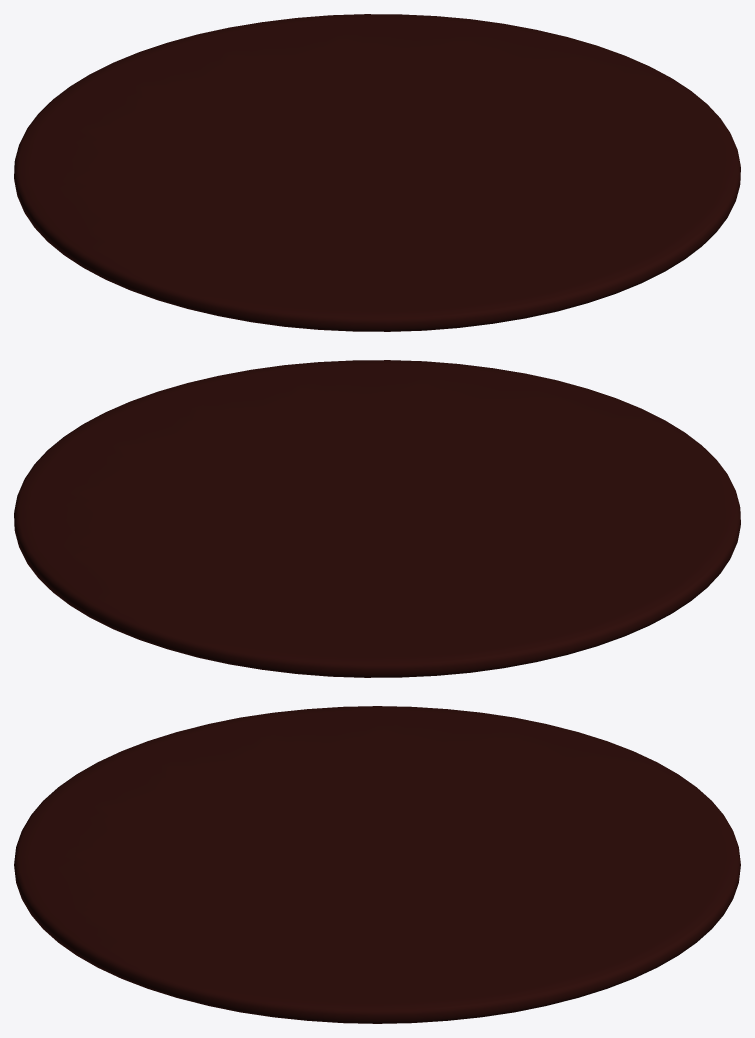
Rendered from carpet.obj.
3 renders of one model, top to bottom at view 1: azimuth 30°, elevation 25°; view 2: azimuth 150°, elevation 25°; view 3: azimuth 270°, elevation 25°, orthographic.
Parts seen in each view (by area): view 1: Circle.004; view 2: Circle.004; view 3: Circle.004.
Boxes of the visible parts, <box> form: Circle.004: <box>14,14,740,331</box>; Circle.004: <box>14,360,740,677</box>; Circle.004: <box>14,706,740,1023</box>.
Bounding box in the file's own units: 2.92 × 0.0753 × 2.92.
